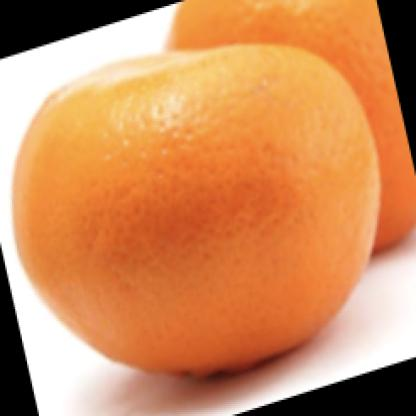fresh: (15, 46, 383, 377)
